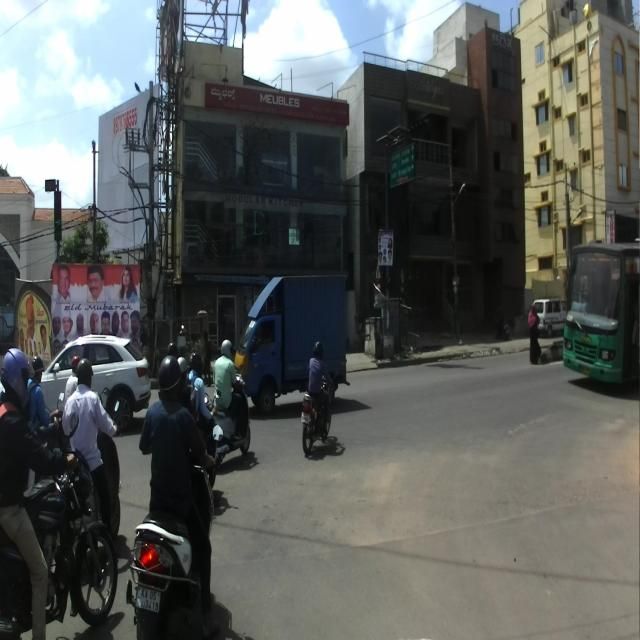car: (33, 330, 152, 436)
motorcycle: (0, 414, 119, 640)
scooter: (123, 422, 230, 640)
truck: (234, 270, 350, 416)
